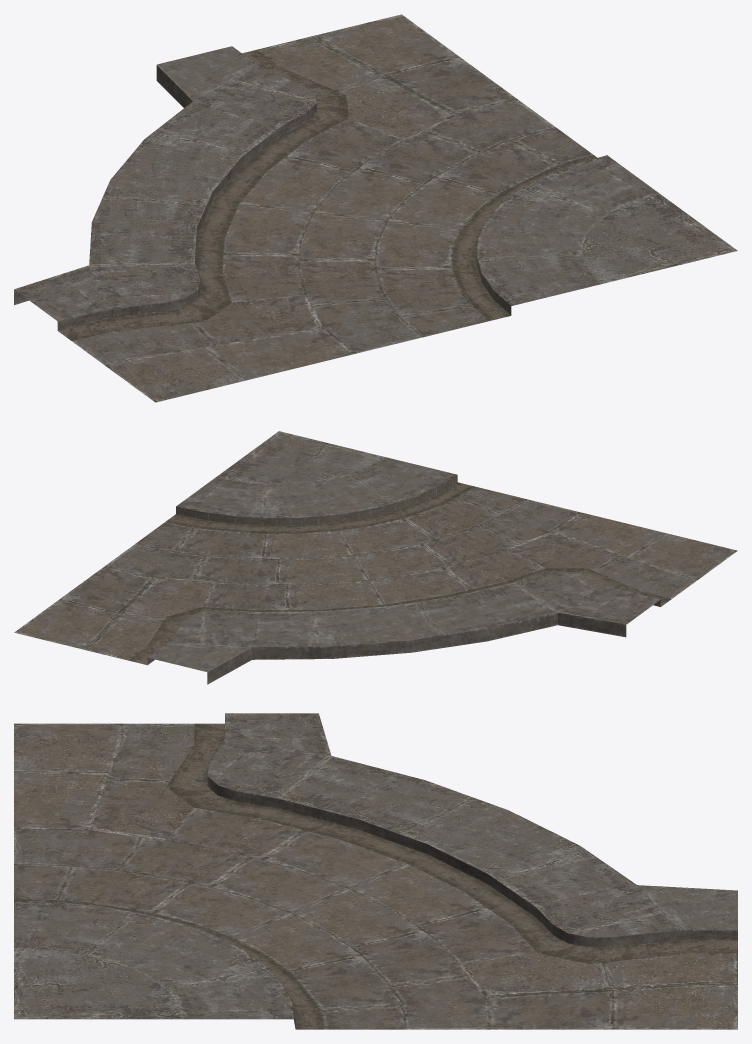
File: Roundabout_2road.fbx
3 views of the same model, one above another, from view 1: azimuth 30°, elevation 25°; view 2: azimuth 150°, elevation 25°; view 3: azimuth 270°, elevation 25° (orthographic). The views are drawn at different scales.
Visible parts, largest first — view 1: Trim_Roundabout_2roads; view 2: Trim_Roundabout_2roads; view 3: Trim_Roundabout_2roads.
Part boxes in pixels (x1,y1,x2,y2): Trim_Roundabout_2roads: (14,14,737,402); Trim_Roundabout_2roads: (14,431,737,684); Trim_Roundabout_2roads: (14,713,737,1029).
Size of the model in its own units: 950 by 25 by 950.
